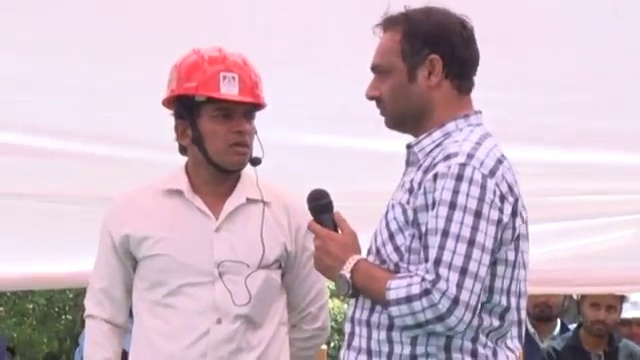helmet: (159, 44, 270, 117), (618, 294, 639, 322)
helmet_off: (364, 8, 486, 144), (575, 292, 629, 337), (527, 293, 569, 333)
helmet_on: (160, 45, 270, 195), (617, 293, 640, 344)
person: (80, 42, 334, 360), (305, 8, 532, 360), (541, 293, 639, 358), (521, 291, 574, 360)
